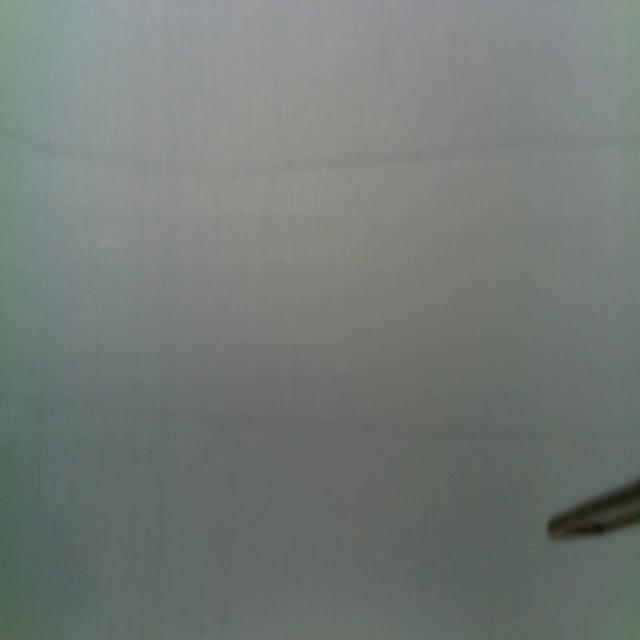color bleeding: (1, 383, 638, 454), (1, 118, 640, 184)
